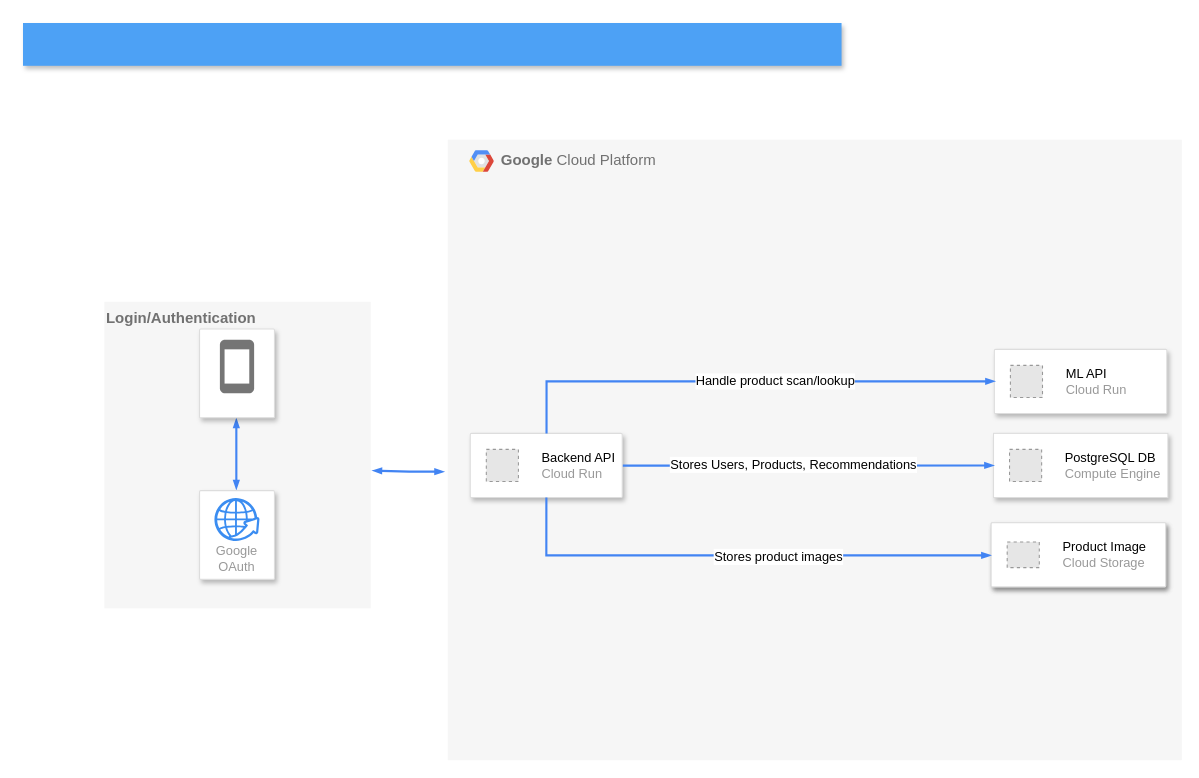
The diagram is 1199 pixels wide and 778 high, and some of its shapes have lost their labels. Grey dashed boxes stand in for pictures. The shapes that lost their labels are listed below. From the top down, each one's centre as x and y in pixels, then its label:
the point at 432,45: Architecture: General > App Engine and Cloud Endpoints
the point at 237,374: Android
